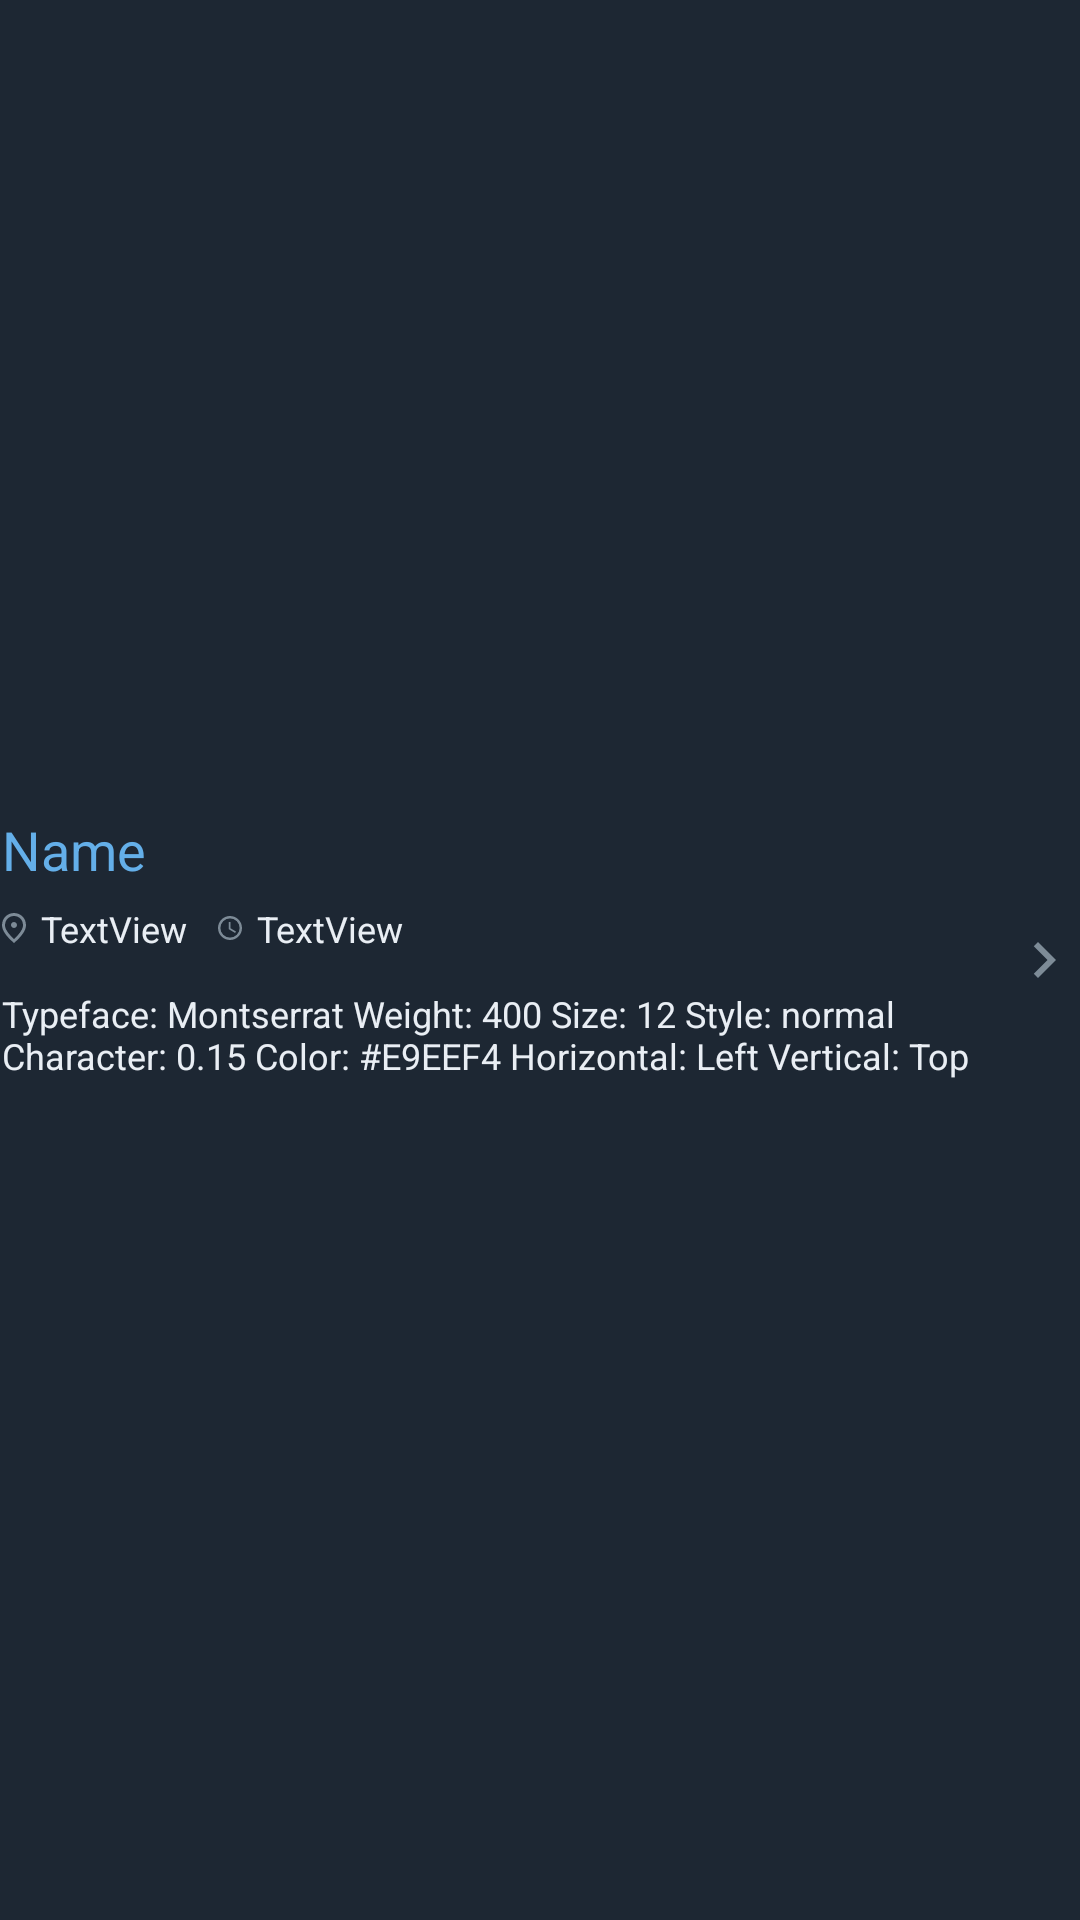

Locate icon controls on the screen. Image size 1080 x 1920, boxes as (x1, y1, x2, y2).
chevron: (1034, 942, 1056, 978)
place: (2, 913, 26, 943)
time: (218, 916, 242, 940)
